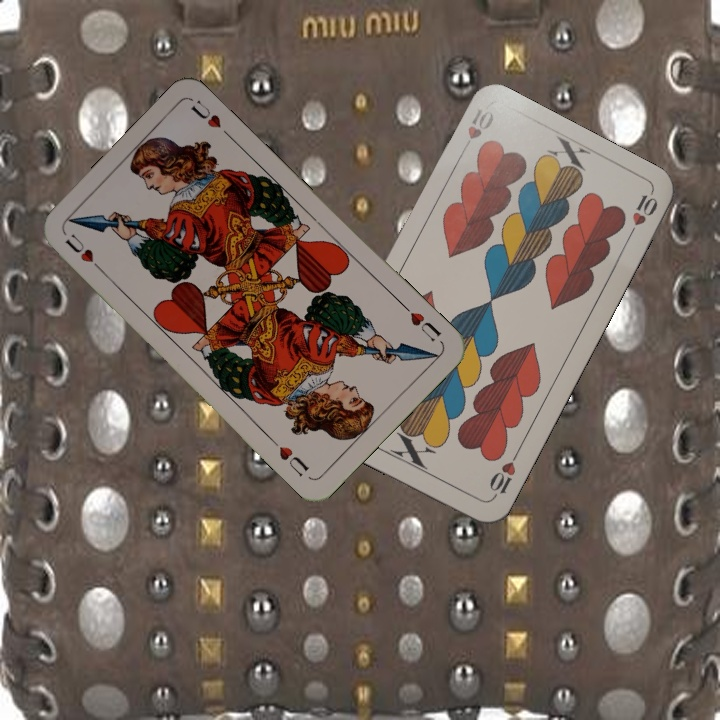H10: (456, 105, 497, 158), (485, 447, 521, 502)
HU: (397, 299, 444, 345), (61, 229, 107, 276)
